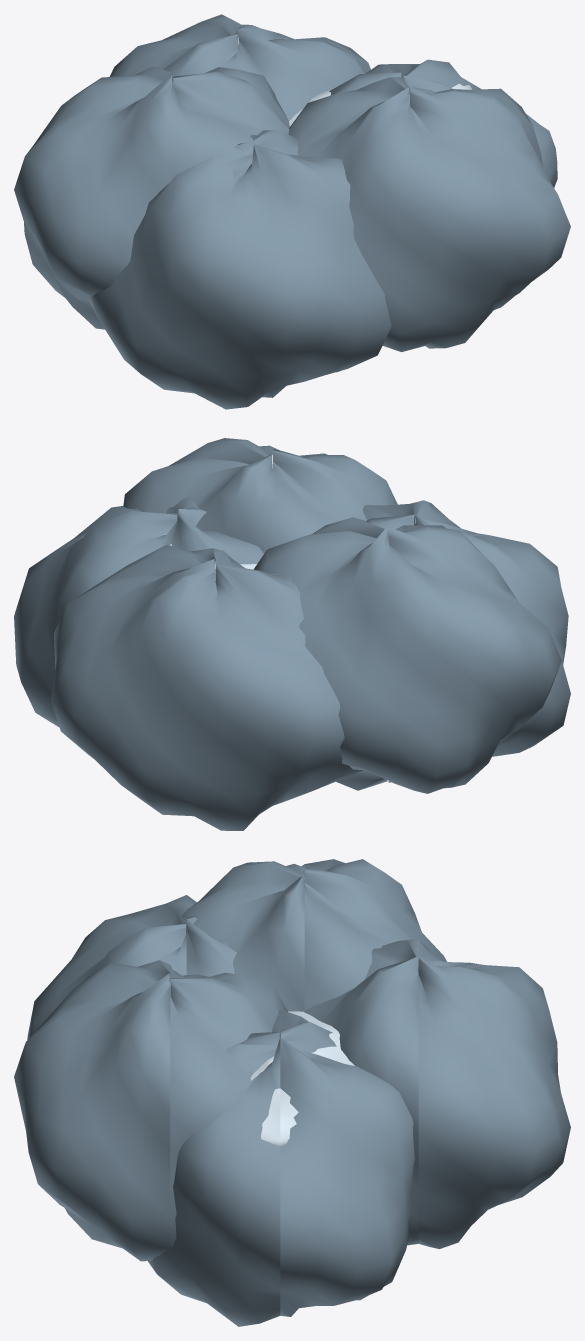
File: stone.glb
3 renders of one model, top to bottom at view 1: azimuth 30°, elevation 25°; view 2: azimuth 150°, elevation 25°; view 3: azimuth 270°, elevation 25°, orthographic. The views are drawn at different scales.
Visible parts, largest first — view 1: stone_1, stone_3, stone_4, stone_2, stone_0; view 2: stone_2, stone_4, stone_3, stone_0, stone_1; view 3: stone_0, stone_3, stone_2, stone_4, stone_1, snow_cap.
Boxes of the visible parts, left/top/right/bottom form: stone_1: left=90, top=130, right=391, bottom=409; stone_3: left=288, top=77, right=570, bottom=352; stone_4: left=14, top=66, right=289, bottom=329; stone_2: left=109, top=14, right=370, bottom=120; stone_0: left=329, top=59, right=557, bottom=309; stone_2: left=51, top=544, right=363, bottom=830; stone_4: left=253, top=517, right=561, bottom=793; stone_3: left=123, top=438, right=397, bottom=553; stone_0: left=14, top=497, right=263, bottom=727; stone_1: left=362, top=500, right=570, bottom=756; stone_0: left=148, top=1009, right=414, bottom=1326; stone_3: left=14, top=960, right=288, bottom=1261; stone_2: left=304, top=938, right=570, bottom=1248; stone_4: left=182, top=859, right=446, bottom=1011; stone_1: left=27, top=895, right=236, bottom=1039; snow_cap: left=250, top=1011, right=354, bottom=1146.
Bounding box in the file's own units: 1.74 × 0.9617 × 1.49.
